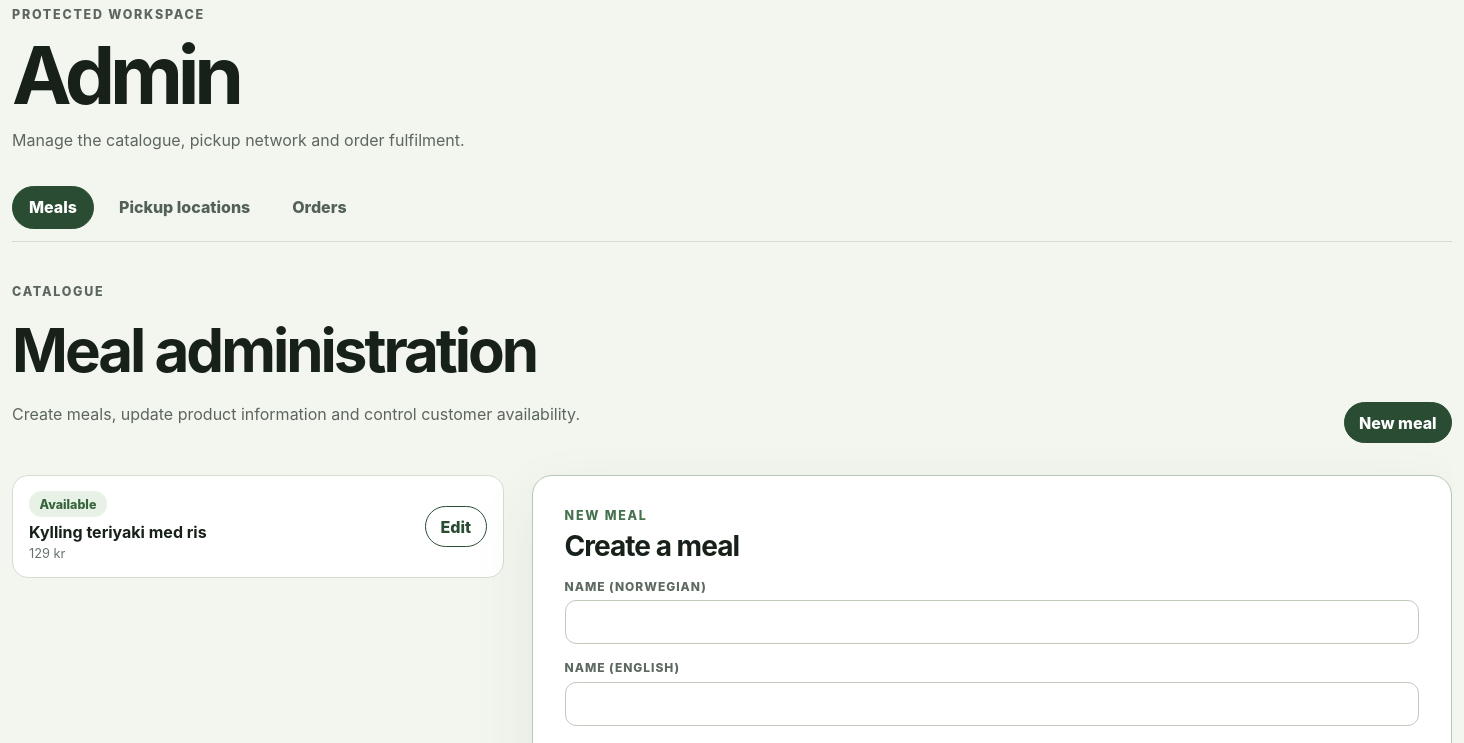
AdminPage › authors English fields while preserving Norwegian source and ingredient pairing
The image size is (1464, 743).
Expected: the heading "Kylling teriyaki med ris" is shown, [29,522,207,542]
Click the button "Edit". click: x=456, y=527
box: [425,506,487,547]
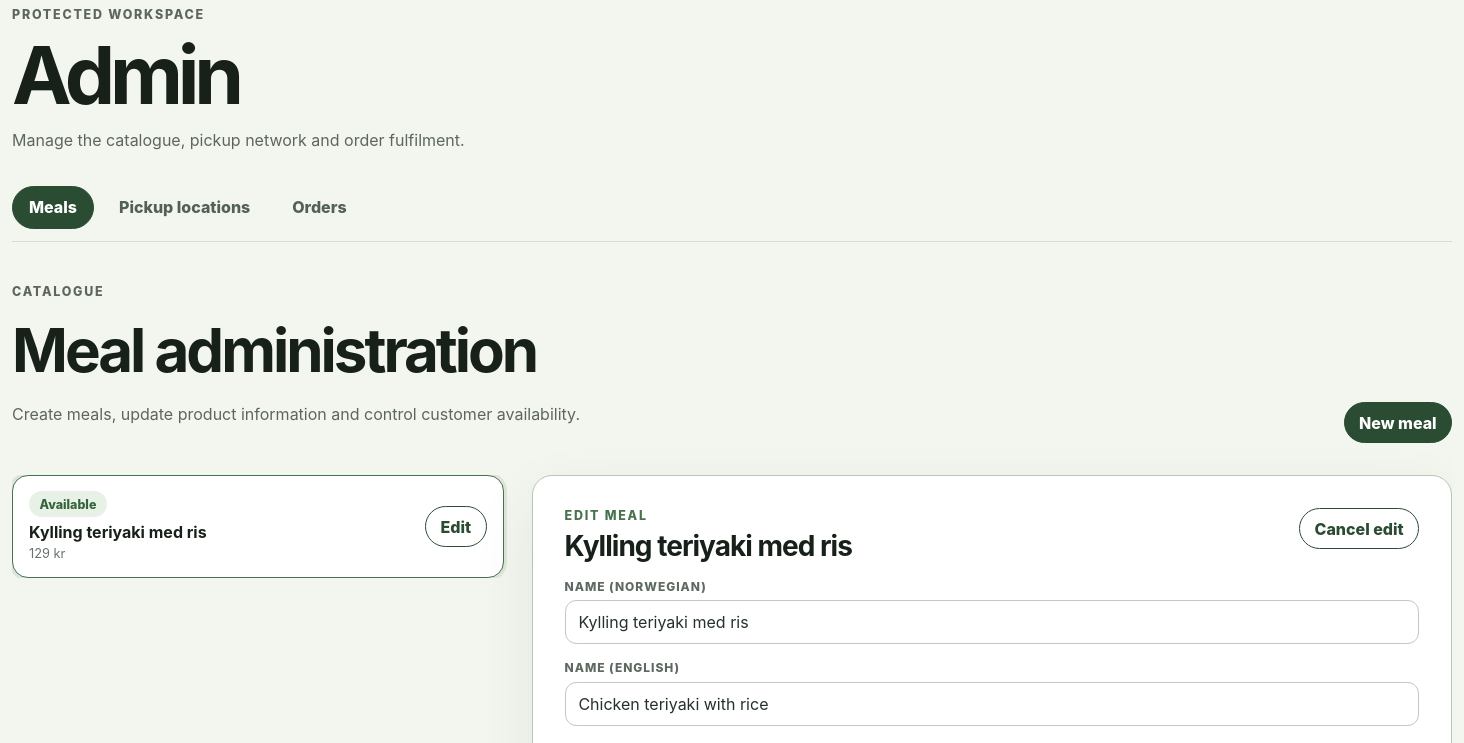
Now the field labelled "Name (Norwegian)" holds "Kylling teriyaki med ris", box [565,600,1419,644]
Now the field labelled "Name (English)" holds "Chicken teriyaki with rice"
Replace the text in the field labelled "Name (English)" with "Updated English name". click: x=992, y=704
box: [565,682,1419,726]
(page scrolled)
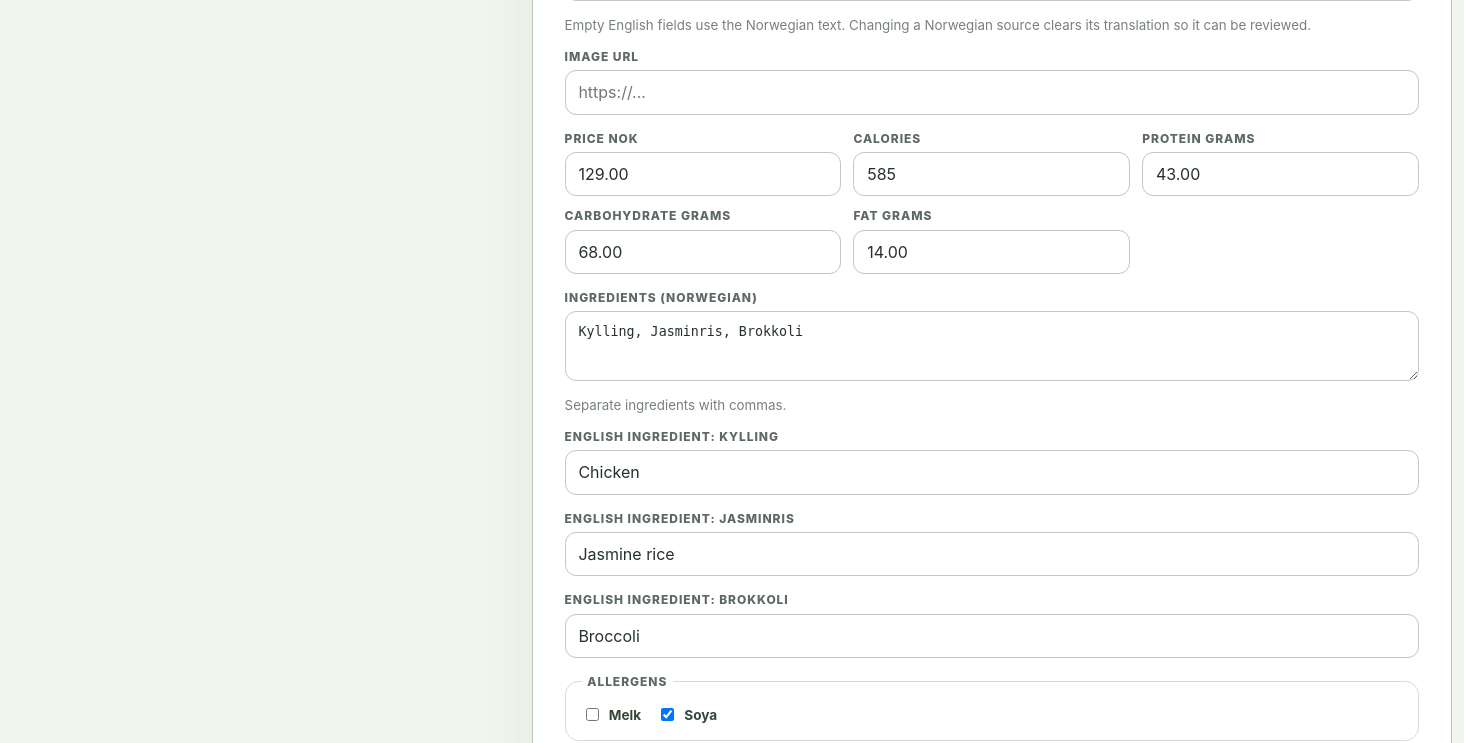
Replace the text in the text box labelled "Ingredients (Norwegian)" with "Brokkoli, Kylling, Jasminris". click: x=992, y=346
box: [565,311,1419,381]
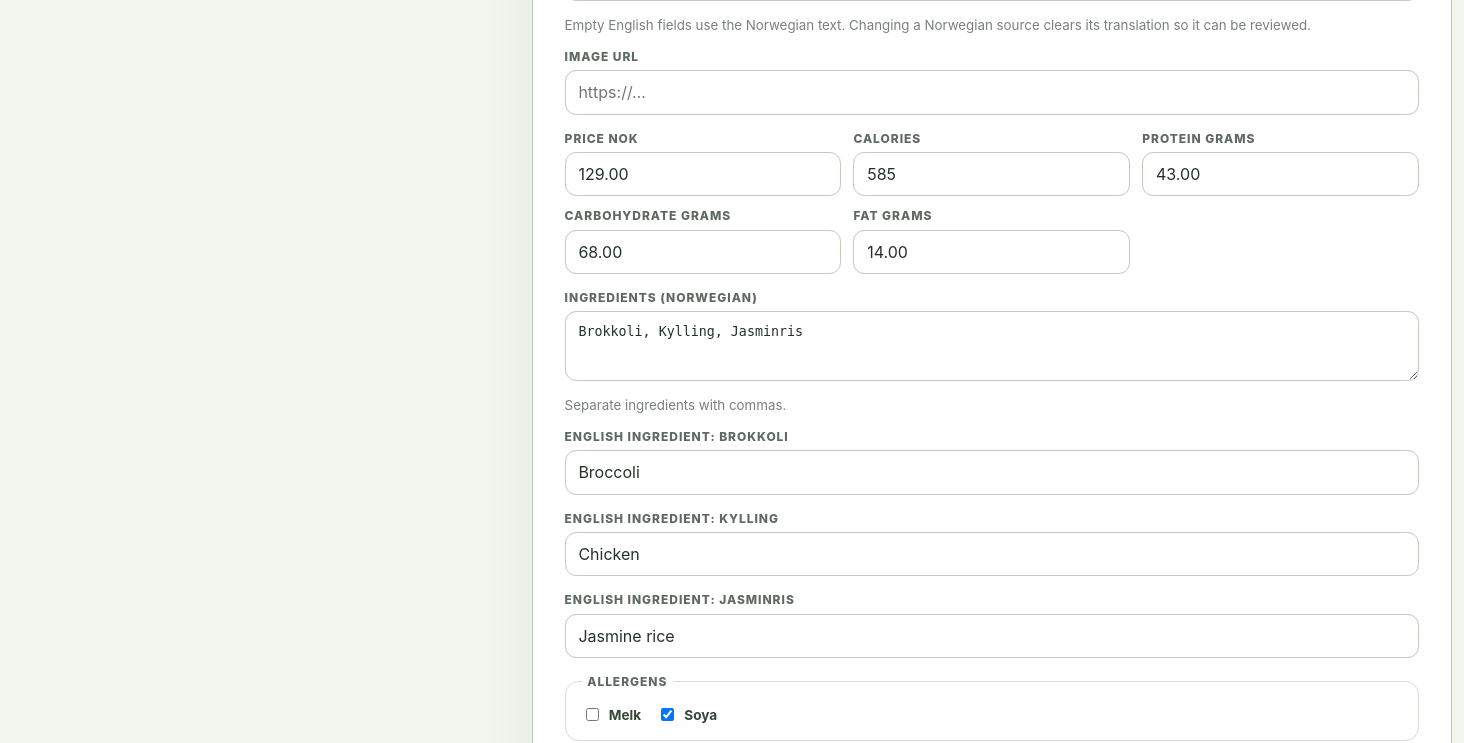
Now the field labelled "English ingredient: Brokkoli" holds "Broccoli", box [565,450,1419,495]
Replace the text in the field labelled "English ingredient: Kylling" with "Tender chicken". click: x=992, y=554
box: [565,532,1419,576]
(page scrolled)
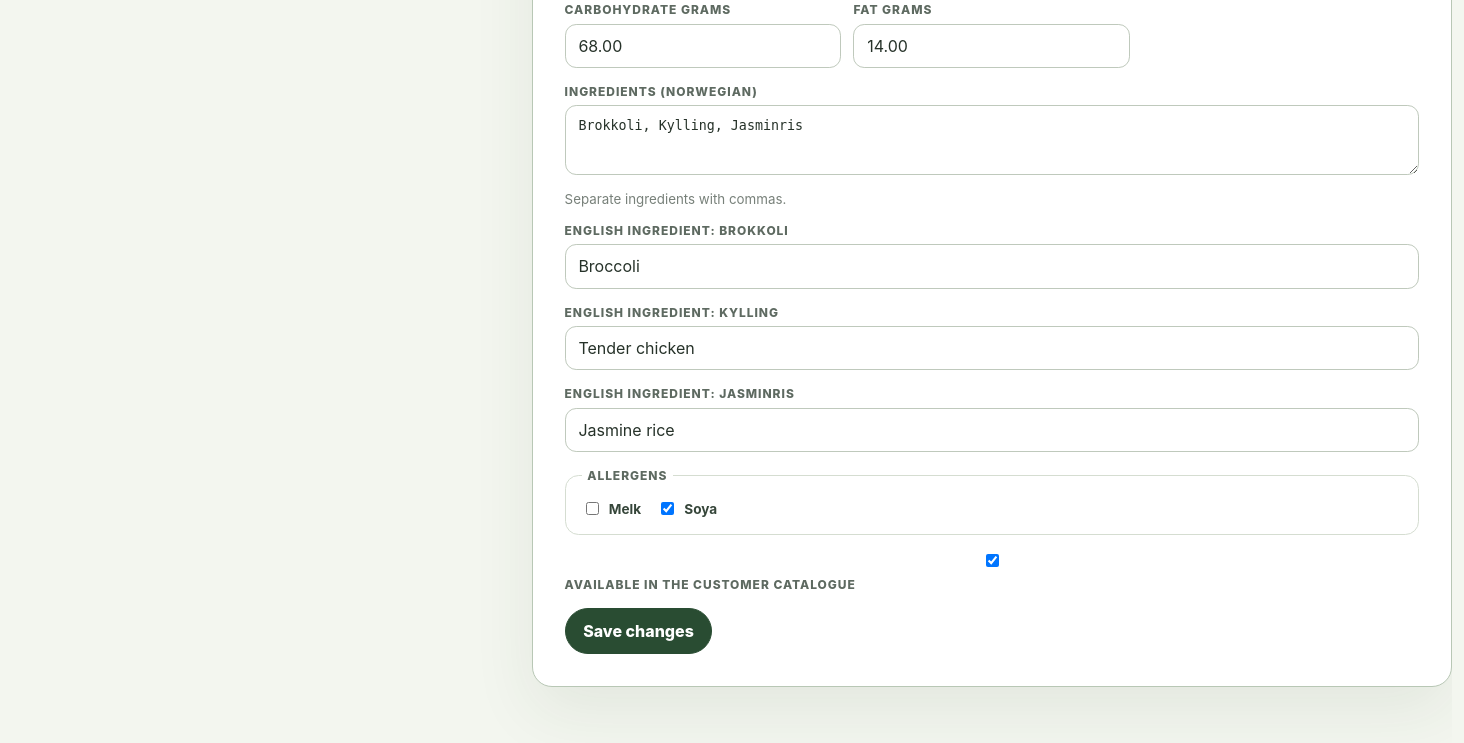
Click the button "Save changes". click: x=638, y=630
box: [565,608,712,654]
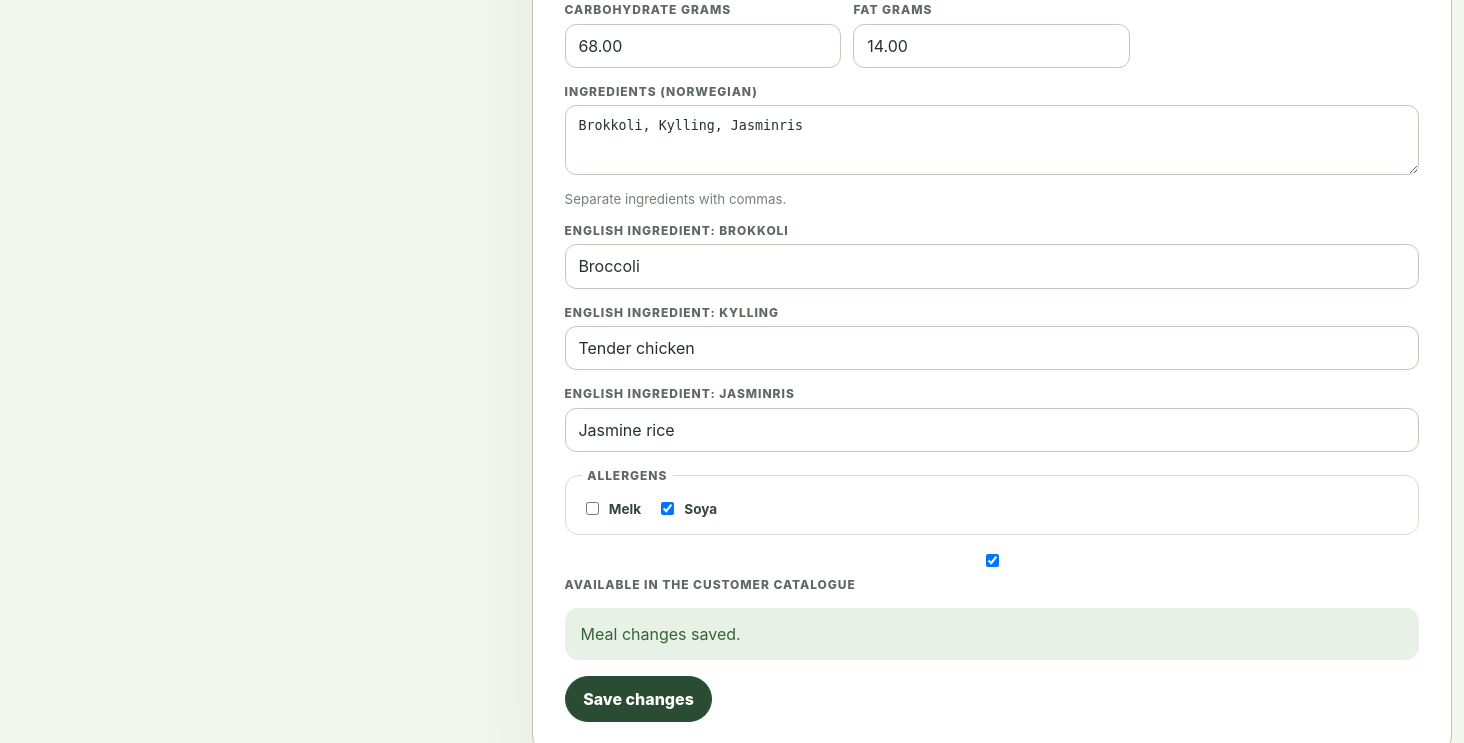
Now the text "Meal changes saved." is shown, box [565,608,1419,660]
